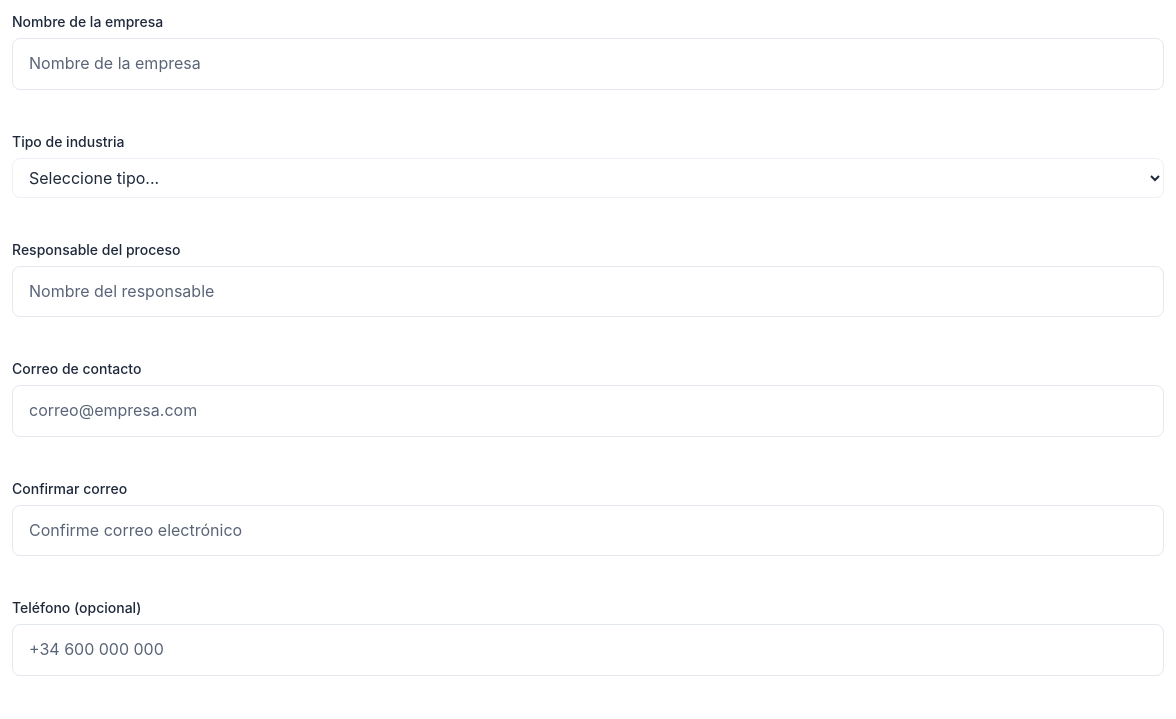
Test case: CompanyForm › shows the "otro" custom industry input only when business_type = "otro"
The image size is (1176, 719).
Expected: the field with placeholder "Especifique el tipo" is not shown
Select "Otro" in the dropdown at (588, 178), box [12,158,1164,198]
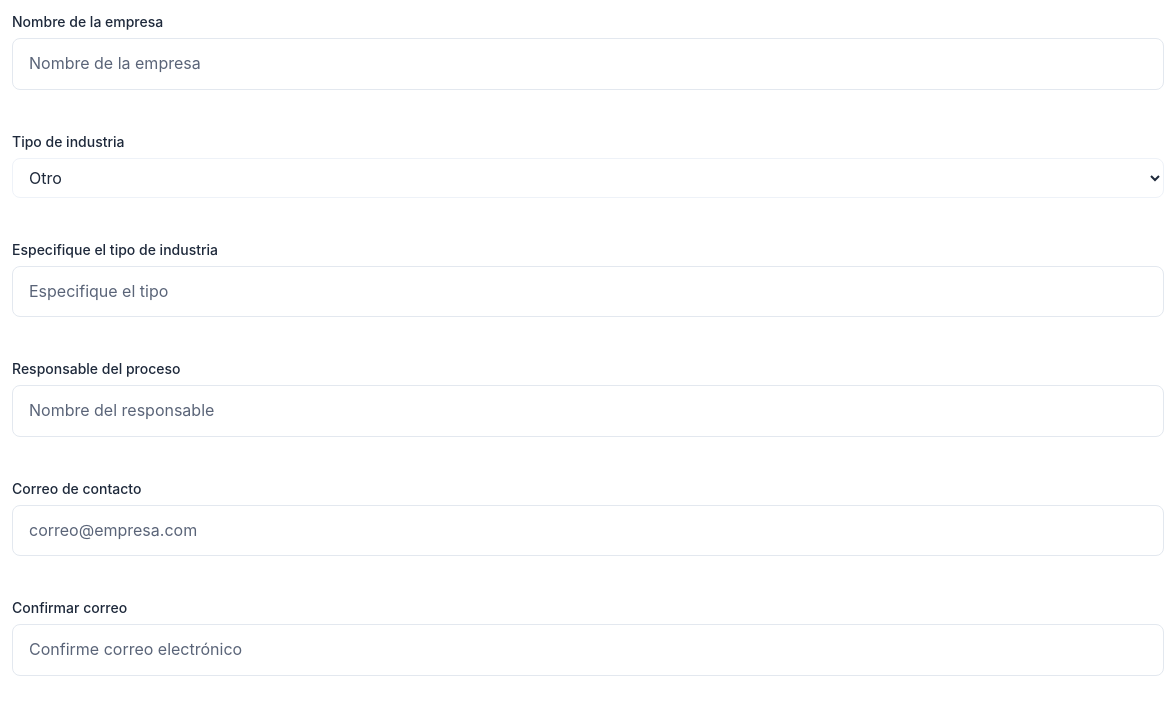
Expected: the field with placeholder "Especifique el tipo" is shown, [12,266,1164,317]
